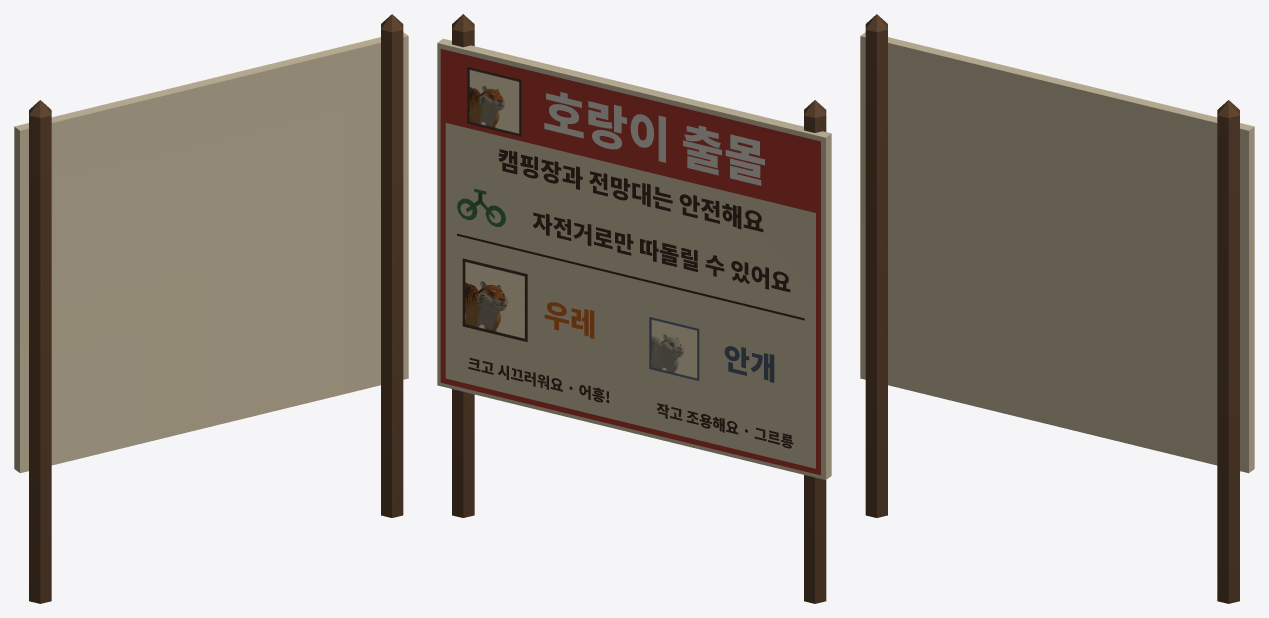
Rendered from sign_tiger_low.glb.
3 renders of one model, left to right at view 1: azimuth 30°, elevation 25°; view 2: azimuth 150°, elevation 25°; view 3: azimuth 330°, elevation 25°, orthographic.
Visible parts, largest first — view 1: sign_tiger; view 2: sign_tiger; view 3: sign_tiger.
Boxes of the visible parts, x1,y1,x2,y2 form: sign_tiger: (14,14,408,603); sign_tiger: (437,14,831,603); sign_tiger: (860,14,1254,603).
Bounding box in the file's own units: 1.9 × 2.33 × 0.1306.
Materials: 2 (1 with a texture image).
